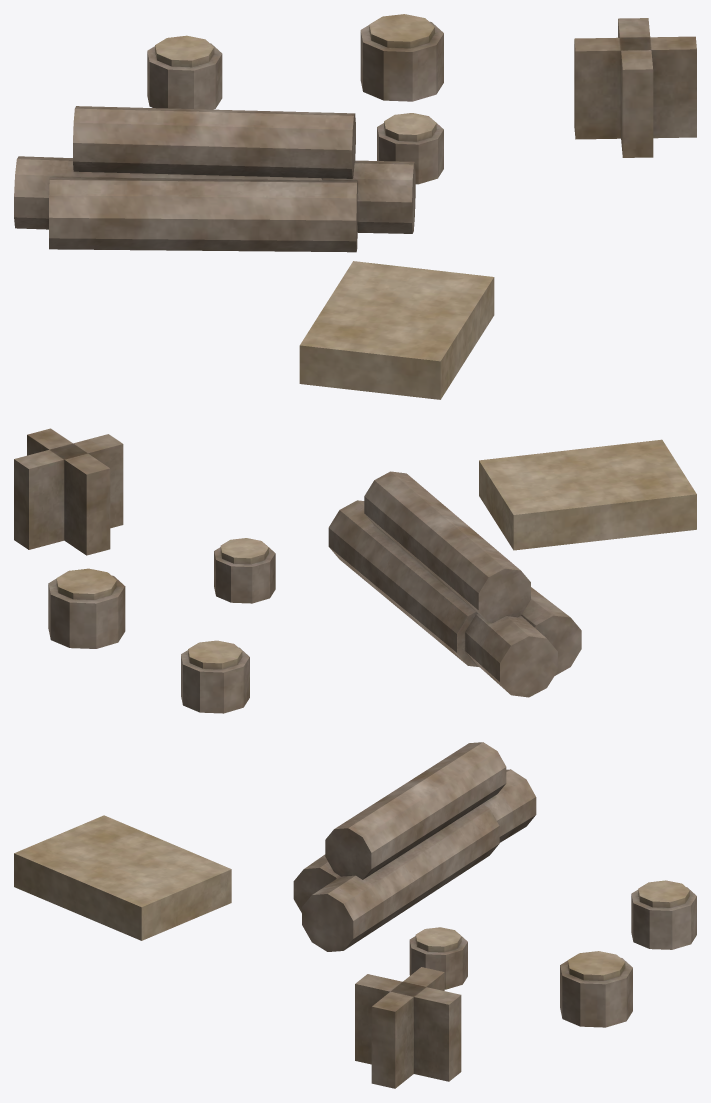
Rendered from res_wood_3.glb.
The picture shows the model from 3 angles, top to bottom: view 1: azimuth 30°, elevation 25°; view 2: azimuth 150°, elevation 25°; view 3: azimuth 270°, elevation 25°; orthographic projection. The views are drawn at different scales.
Visible parts, largest first — view 1: dilek; view 2: dilek; view 3: dilek.
Boxes of the visible parts, x1=… form: dilek: x1=14, y1=14, x2=696, y2=399; dilek: x1=14, y1=428, x2=696, y2=713; dilek: x1=14, y1=742, x2=696, y2=1088.
Bounding box in the file's own units: 1.2 × 0.215 × 1.29.
Materials: 1 (1 with a texture image).
